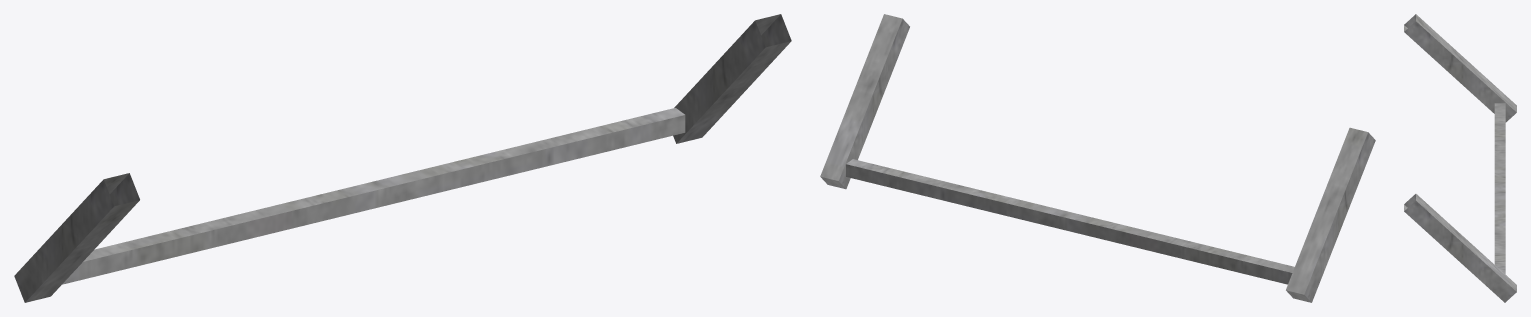
The model's file is Carrier.glb.
3 renders of one model, left to right at view 1: azimuth 30°, elevation 25°; view 2: azimuth 150°, elevation 25°; view 3: azimuth 270°, elevation 25°, orthographic. The views are drawn at different scales.
Visible parts, largest first — view 1: Carrier; view 2: Carrier; view 3: Carrier.
Part boxes in pixels (x1,y1,x2,y2): Carrier: [14, 14, 791, 302]; Carrier: [820, 14, 1375, 302]; Carrier: [1404, 14, 1516, 302].
Size of the model in its own units: 0.647 by 0.1655 by 0.1655.
Materials: 1 (1 with a texture image).
